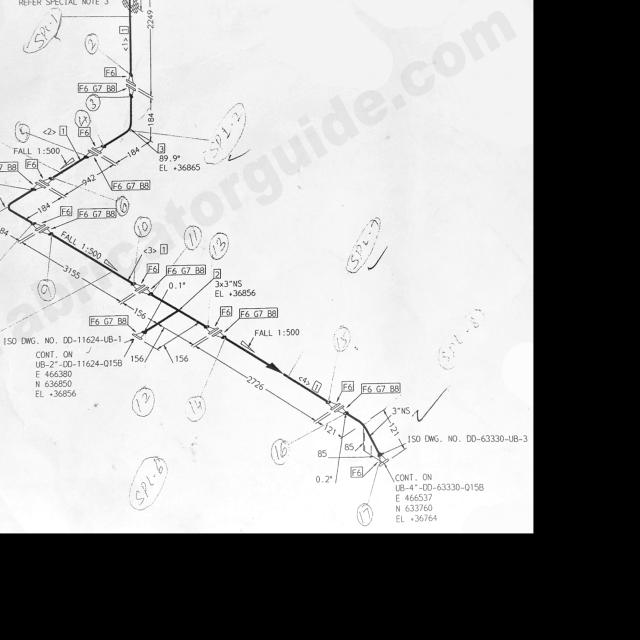Item number: (359, 381, 402, 394), (239, 306, 279, 319), (77, 81, 119, 93), (88, 315, 129, 327), (110, 179, 151, 191), (74, 208, 118, 219), (165, 264, 206, 275), (349, 464, 364, 479), (1, 160, 19, 172), (341, 379, 355, 392), (52, 125, 67, 137), (24, 157, 38, 169), (104, 65, 117, 77), (59, 205, 72, 217), (147, 262, 160, 274), (220, 304, 232, 316), (311, 379, 322, 391), (77, 128, 90, 137), (160, 243, 169, 255), (157, 142, 166, 153), (119, 25, 128, 35), (213, 267, 221, 278)
Measrement: (194, 344, 321, 425), (18, 236, 127, 304), (62, 161, 116, 196), (127, 323, 168, 367), (380, 407, 408, 452), (315, 443, 380, 462), (158, 340, 195, 371), (112, 137, 152, 164), (28, 194, 66, 220), (146, 1, 155, 104), (120, 300, 156, 324), (317, 420, 345, 443), (254, 327, 301, 338), (145, 91, 155, 140), (1, 223, 22, 243), (314, 472, 336, 485), (158, 153, 181, 164)
Pipeline: (221, 333, 328, 403), (51, 230, 134, 282), (144, 289, 207, 332), (344, 407, 386, 458), (101, 89, 135, 150), (0, 188, 39, 222), (50, 153, 92, 180), (128, 0, 136, 76)
Symbol: (100, 91, 137, 153), (1, 184, 46, 229), (343, 406, 379, 455), (84, 143, 106, 161), (326, 400, 349, 416), (204, 324, 226, 340), (31, 176, 54, 191), (262, 359, 283, 374), (131, 282, 153, 296), (125, 74, 137, 99)
Weld number: (130, 386, 156, 419), (184, 395, 209, 424), (269, 437, 291, 466), (332, 324, 353, 353), (209, 231, 229, 260), (36, 278, 57, 303), (184, 225, 203, 250), (356, 500, 373, 527), (133, 215, 152, 239), (84, 32, 100, 56), (74, 108, 91, 129), (14, 120, 31, 141), (115, 195, 130, 215), (86, 93, 101, 111)
other: (6, 333, 124, 398), (392, 470, 483, 524), (409, 432, 525, 445), (213, 280, 257, 297), (252, 327, 301, 338), (159, 162, 202, 172)
